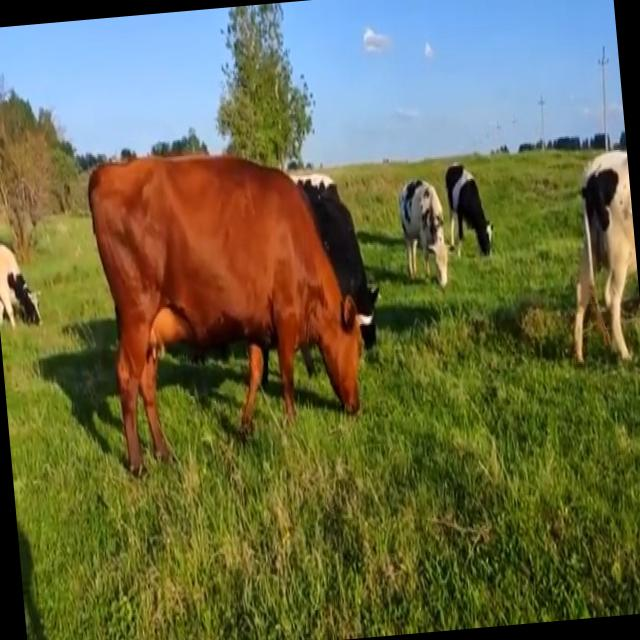cow: (88, 156, 377, 473), (398, 179, 448, 283), (446, 163, 491, 253)
